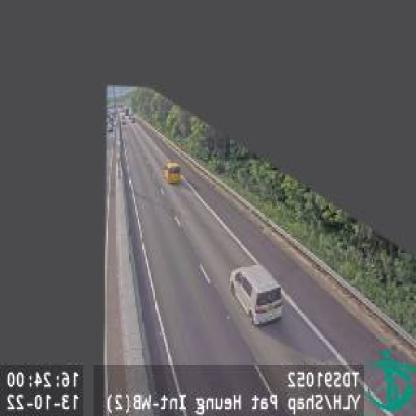Car: (230, 262, 284, 328), (165, 160, 181, 183)
